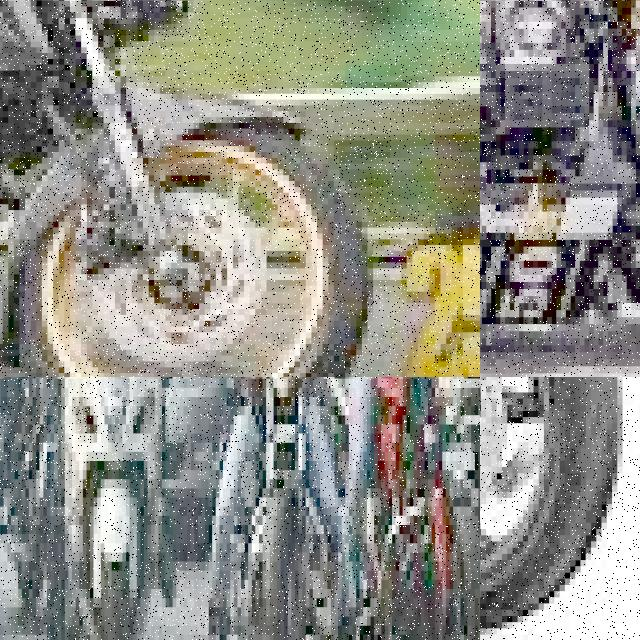bike: (0, 0, 373, 377), (480, 0, 640, 373), (480, 377, 633, 640), (345, 377, 480, 640), (54, 377, 172, 640), (233, 377, 334, 640)
